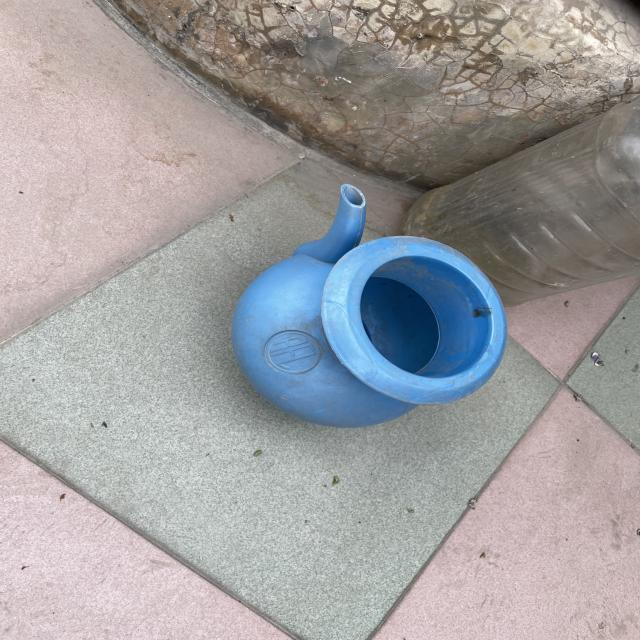Breeding Place: (242, 185, 510, 439)
